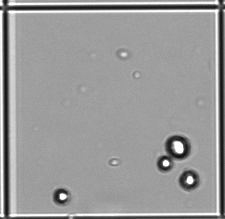Living Cell: (166, 135, 191, 159), (178, 169, 200, 191), (53, 188, 69, 205), (157, 155, 173, 172)
